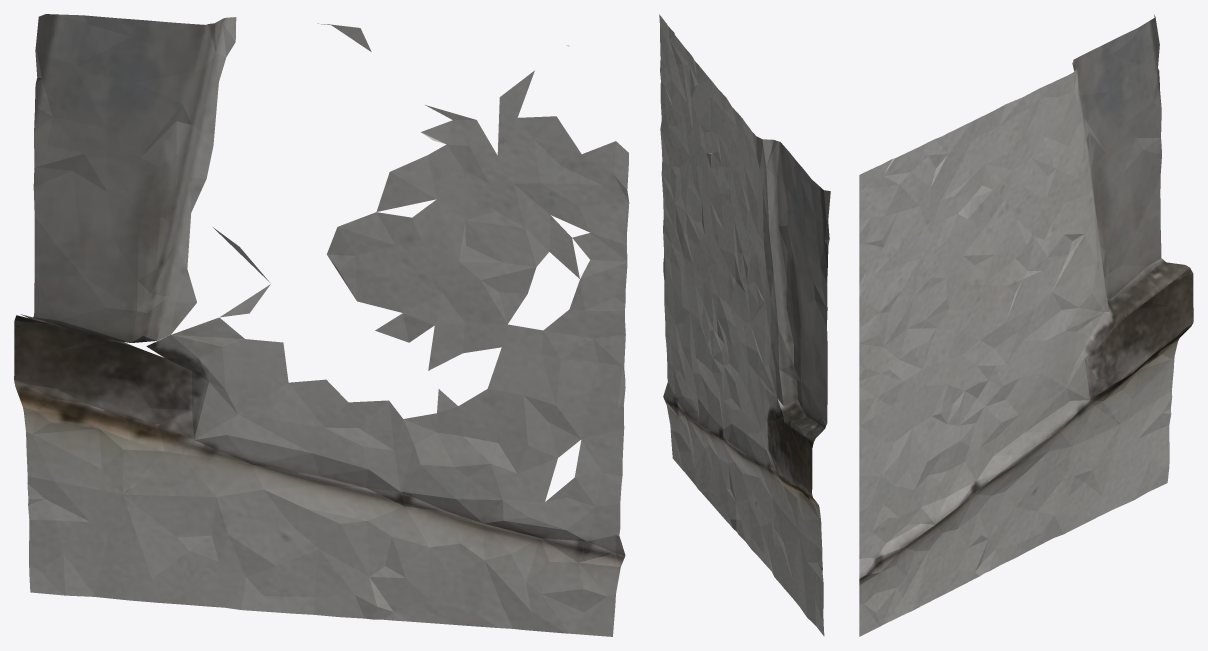
3 views of the same model, side by side, from view 1: azimuth 30°, elevation 25°; view 2: azimuth 150°, elevation 25°; view 3: azimuth 270°, elevation 25° (orthographic). The views are drawn at different scales.
Size of the model in its own units: 0.6163 by 0.8374 by 0.5411.
2 materials, 2 textured.
